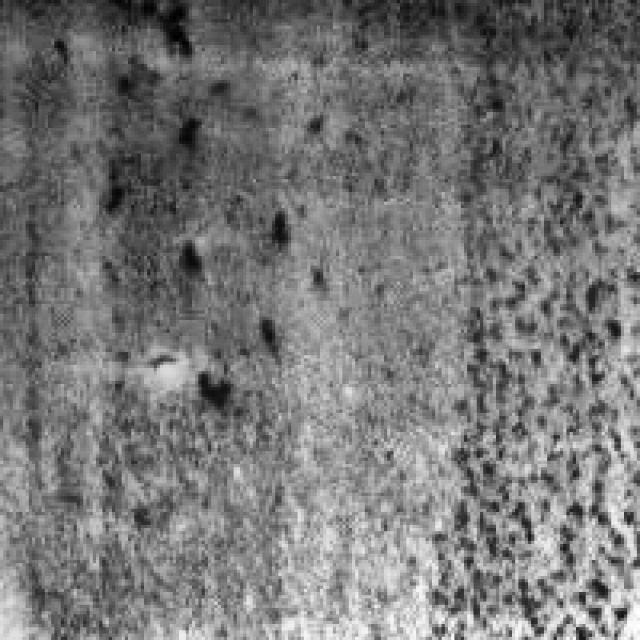Rolled_in_Scale: (436, 0, 636, 637), (38, 0, 329, 422)
